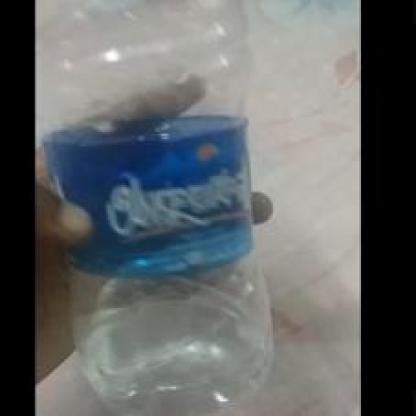bottle: (34, 0, 288, 408)
